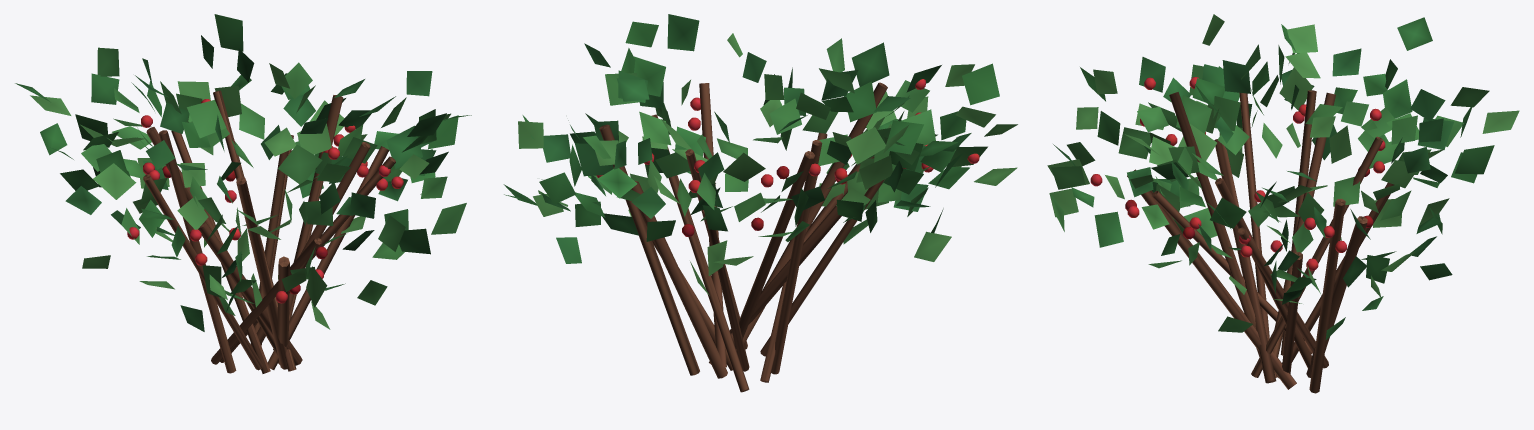
The model's file is standard-lod0.glb.
The picture shows the model from 3 angles, left to right: view 1: azimuth 30°, elevation 25°; view 2: azimuth 150°, elevation 25°; view 3: azimuth 270°, elevation 25°; orthographic projection. The views are drawn at different scales.
Parts seen in each view (by area): view 1: redberry-individual-ovate-leaves, redberry-buried-stems-ground-blend-and-fruit; view 2: redberry-individual-ovate-leaves, redberry-buried-stems-ground-blend-and-fruit; view 3: redberry-individual-ovate-leaves, redberry-buried-stems-ground-blend-and-fruit.
Boxes of the visible parts, x1=… form: redberry-individual-ovate-leaves: x1=15, y1=14, x2=471, y2=331; redberry-buried-stems-ground-blend-and-fruit: x1=127, y1=90, x2=403, y2=373; redberry-individual-ovate-leaves: x1=503, y1=14, x2=1017, y2=295; redberry-buried-stems-ground-blend-and-fruit: x1=596, y1=79, x2=979, y2=392; redberry-individual-ovate-leaves: x1=1047, y1=14, x2=1519, y2=340; redberry-buried-stems-ground-blend-and-fruit: x1=1090, y1=77, x2=1394, y2=393.
Size of the model in its own units: 2.28 by 1.58 by 2.32.
